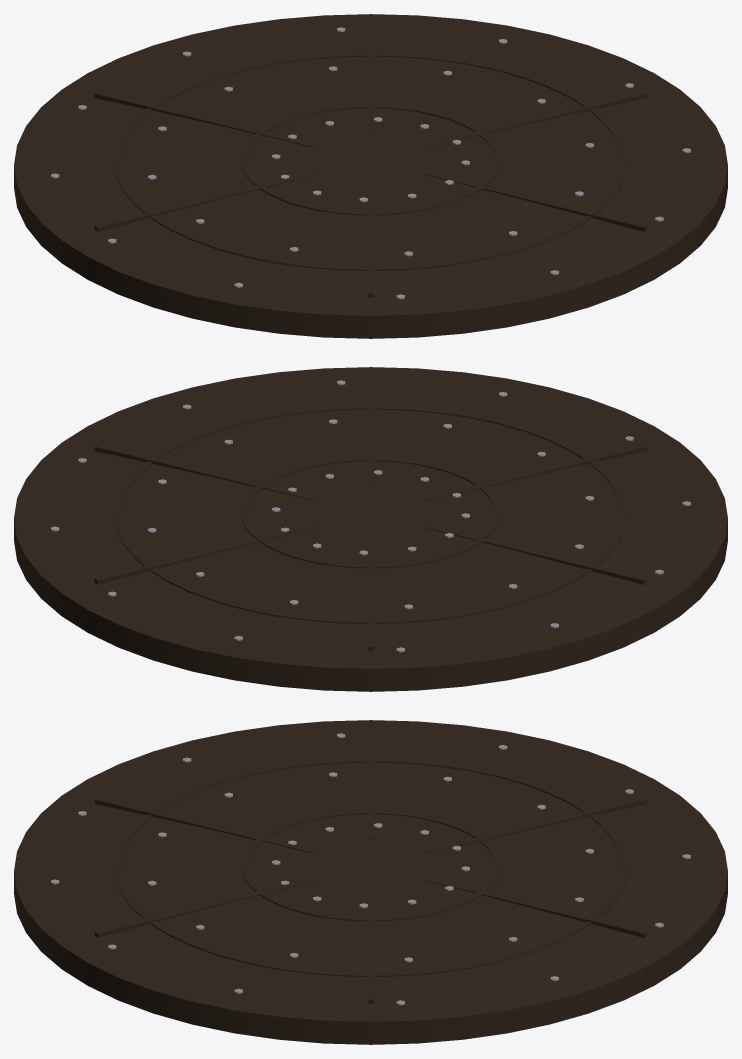
The model's file is tz12_ablator.obj.
The picture shows the model from 3 angles, top to bottom: view 1: azimuth 30°, elevation 25°; view 2: azimuth 150°, elevation 25°; view 3: azimuth 270°, elevation 25°; orthographic projection.
Parts seen in each view (by area): view 1: tz12_ablator; view 2: tz12_ablator; view 3: tz12_ablator.
Part boxes in pixels (x1,y1,x2,y2): tz12_ablator: (14,14,727,338); tz12_ablator: (14,367,727,691); tz12_ablator: (14,720,727,1044).
Size of the model in its own units: 4.5 by 0.2005 by 4.5.
